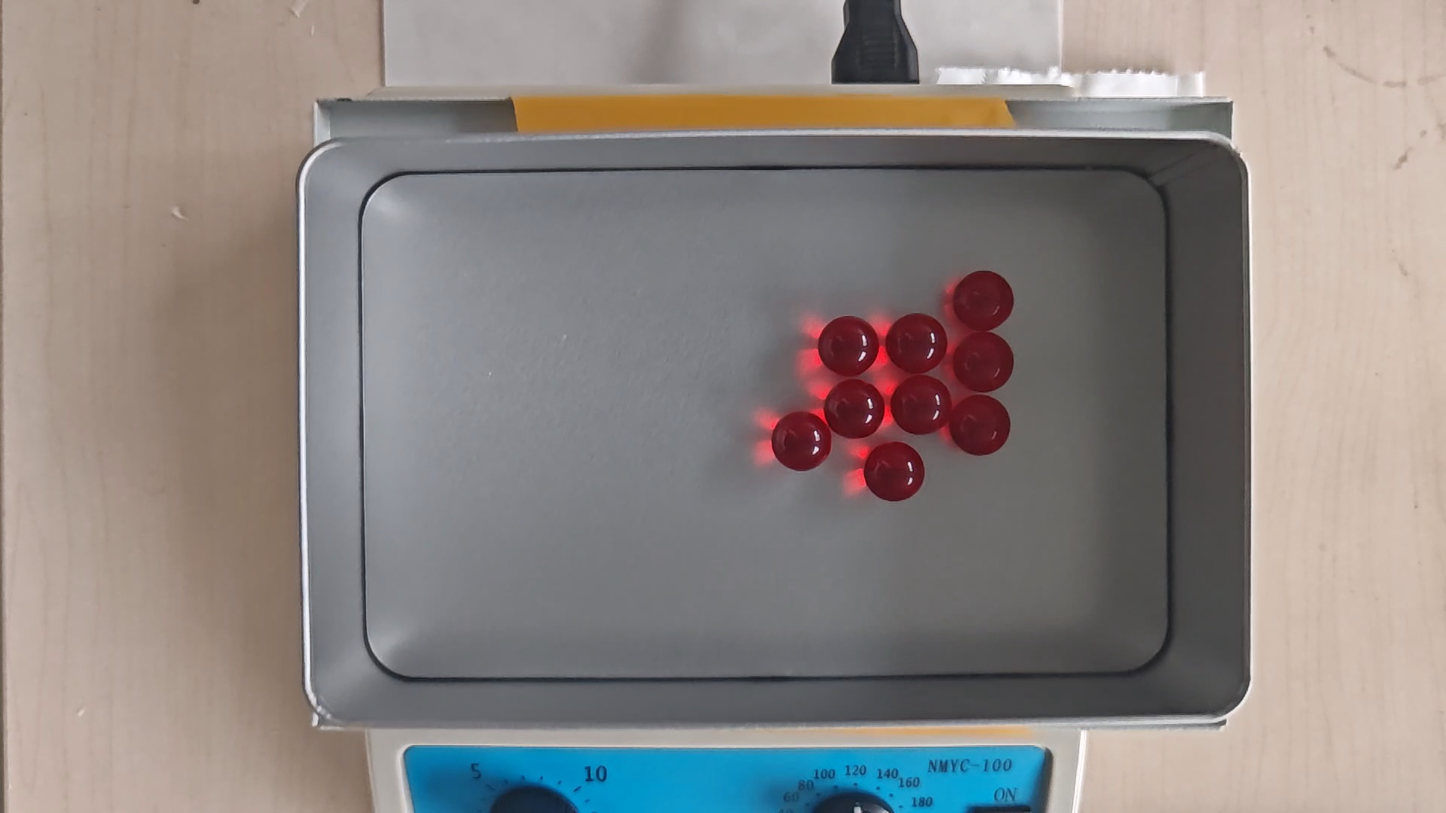ball: (818, 315, 879, 378), (772, 409, 831, 472), (954, 270, 1014, 331), (951, 396, 1011, 457), (865, 441, 924, 503), (825, 379, 885, 439), (887, 314, 947, 374), (891, 376, 952, 435), (955, 332, 1014, 392)
container: (361, 167, 1168, 678)
